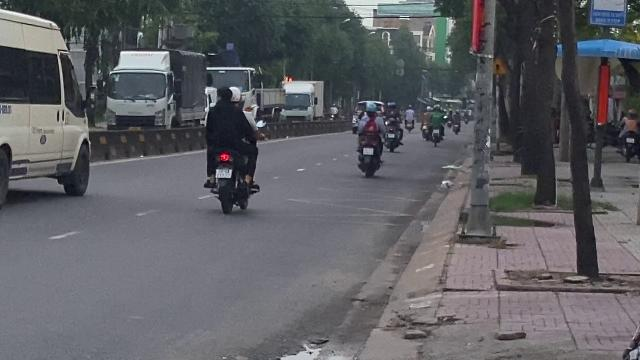helmet: (230, 86, 242, 103)
licenseplate: (216, 168, 232, 178)
motorcyclist: (200, 84, 262, 214)
nohelmet: (214, 86, 232, 102)
